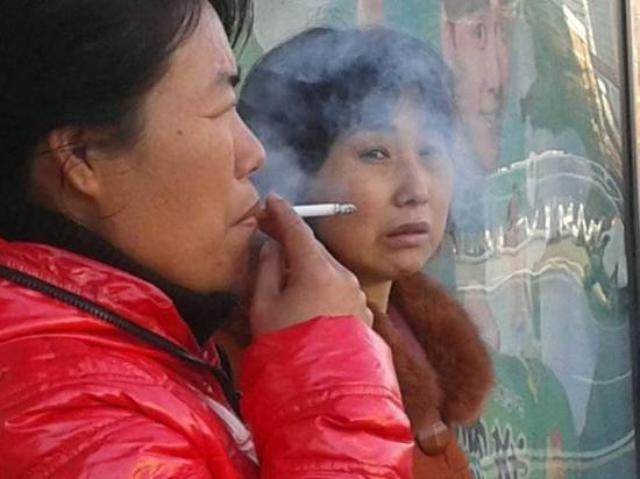SafeDriving: (352, 133, 401, 168)
Smoking: (293, 200, 362, 222)
